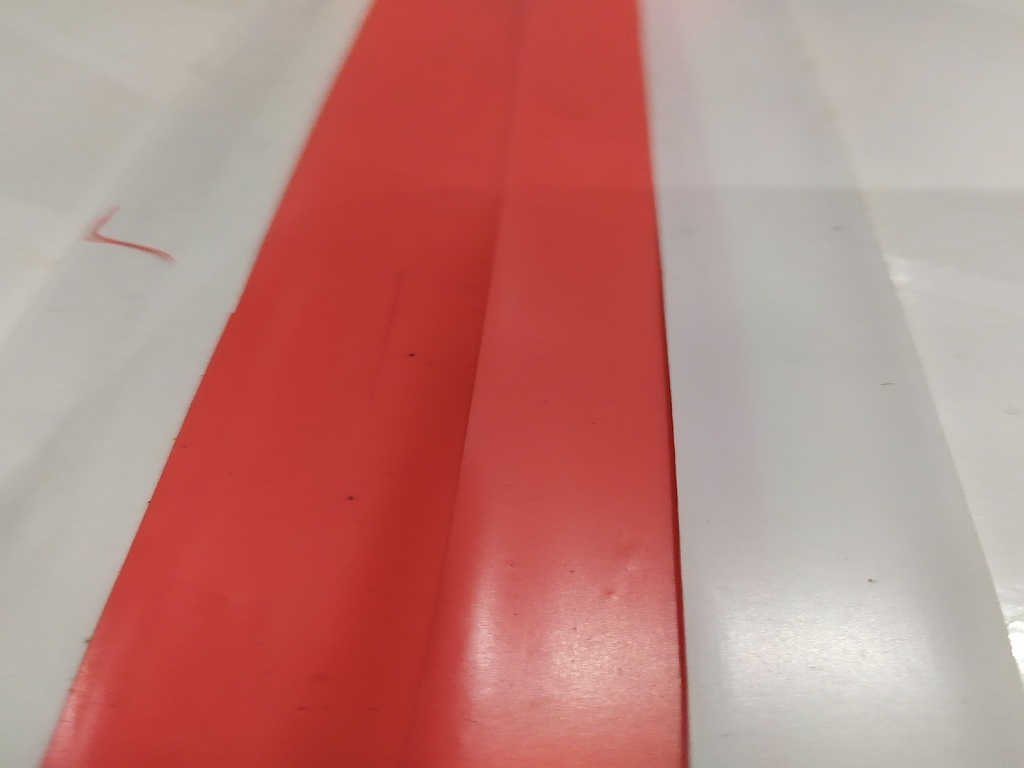reta: (1, 2, 1018, 763)
